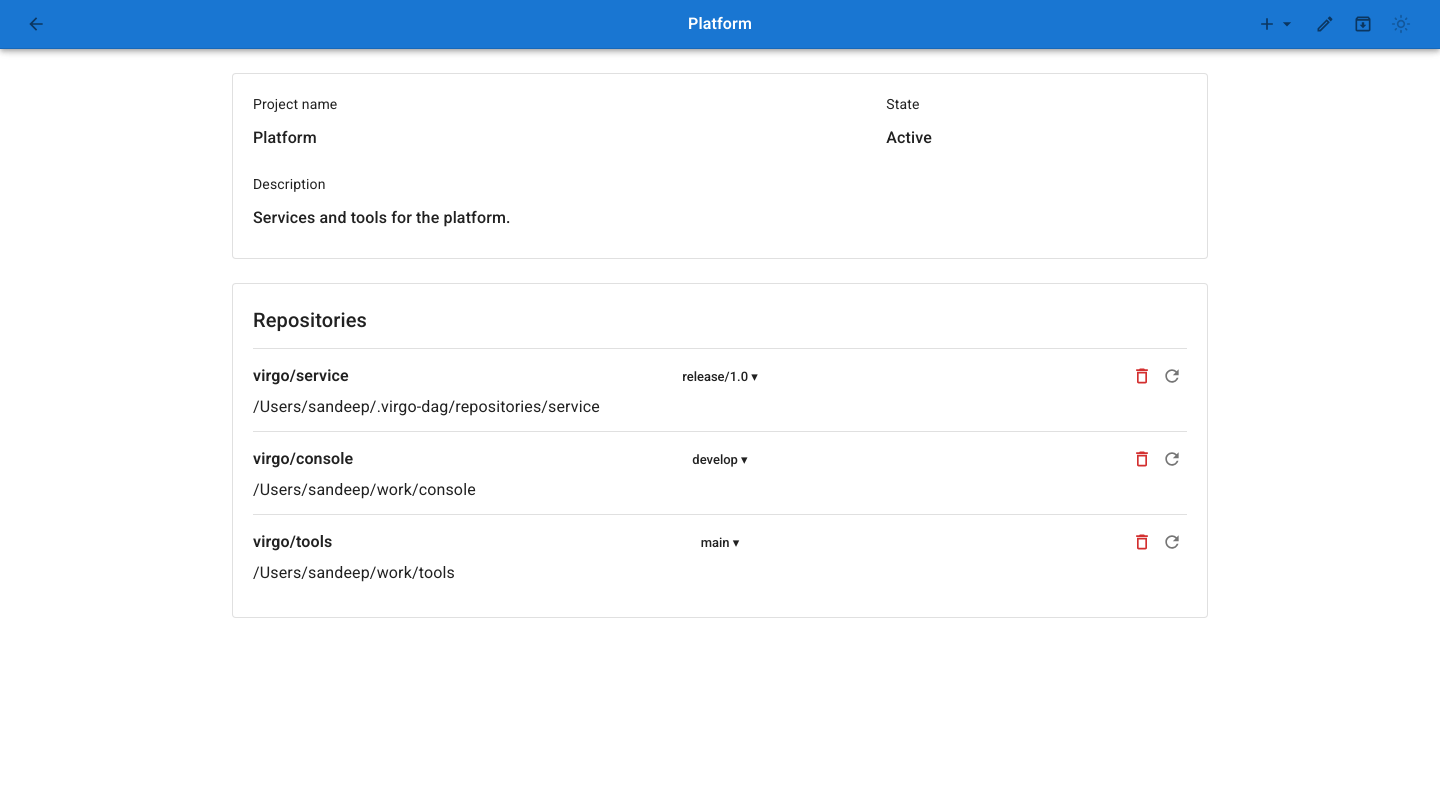
Test case: ProjectDetailsScreen discards edits when Cancel is selected
Press Tab
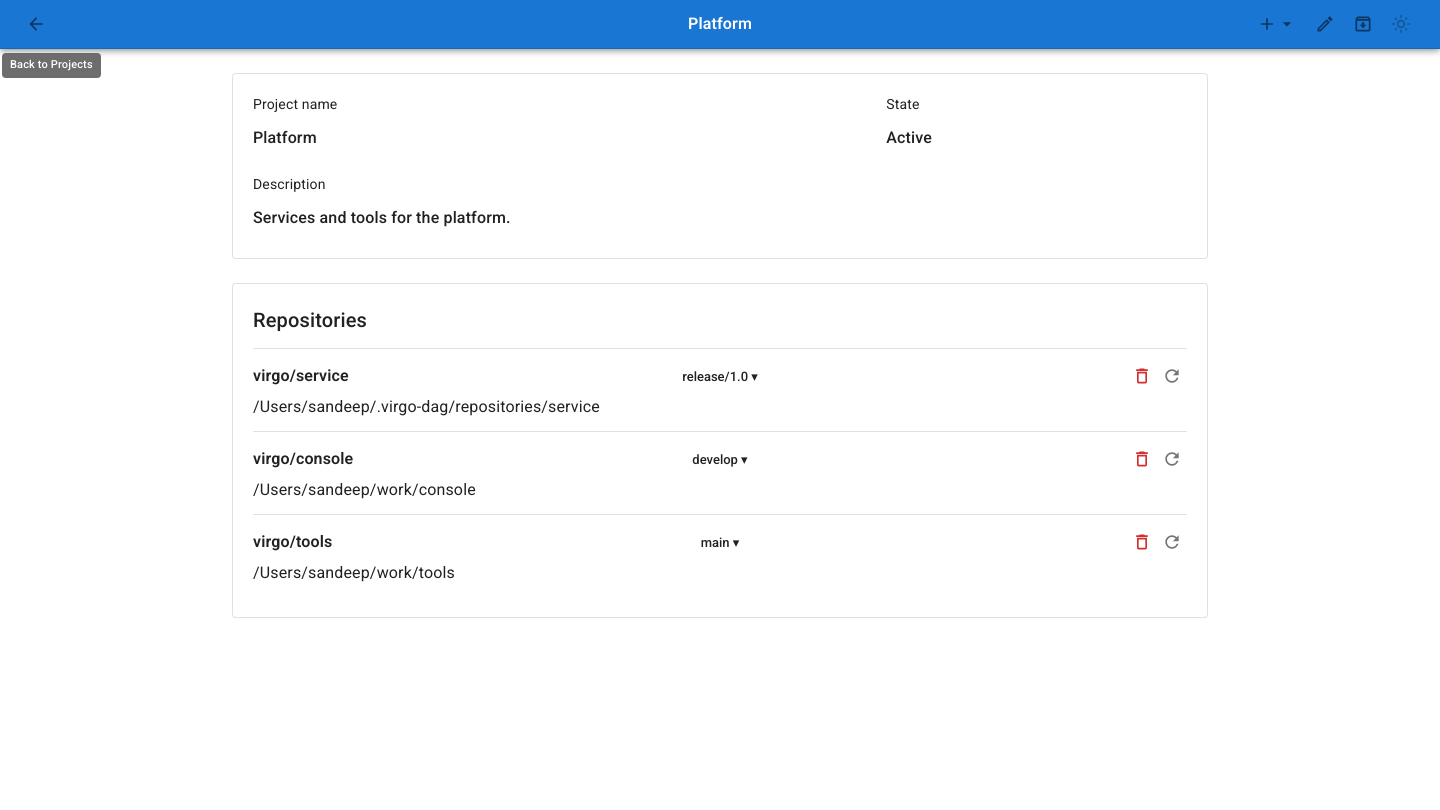
Press Tab
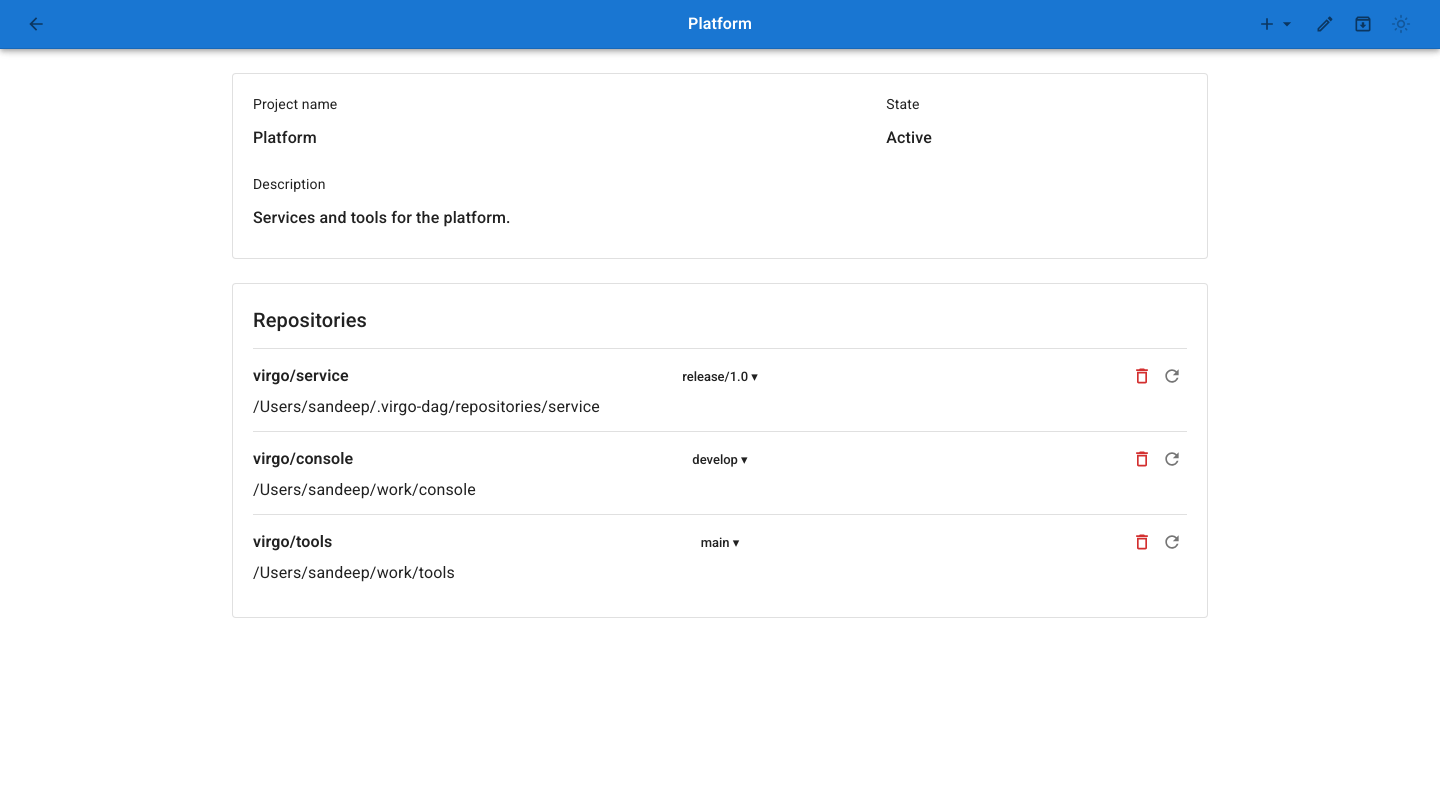
Press Tab
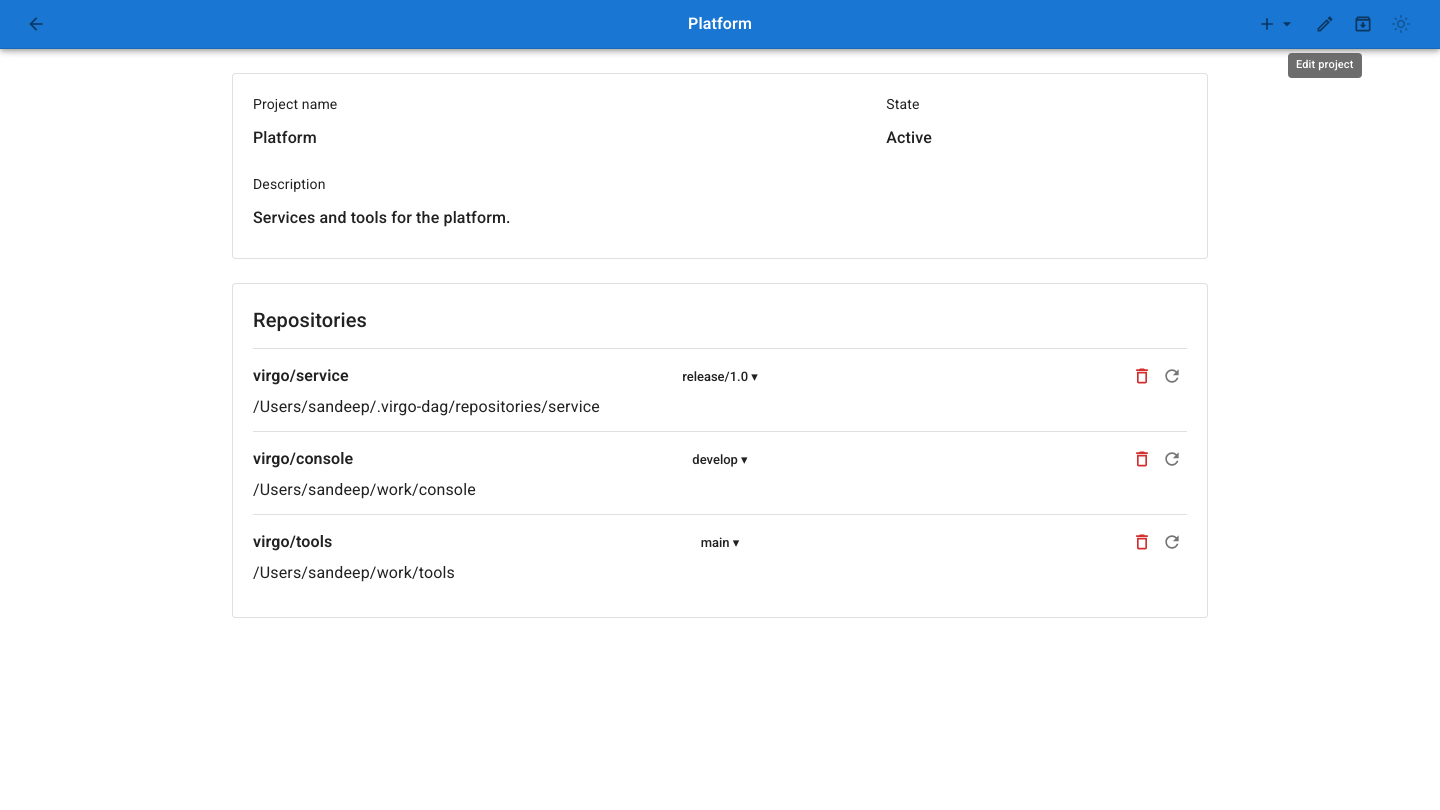
Press Enter
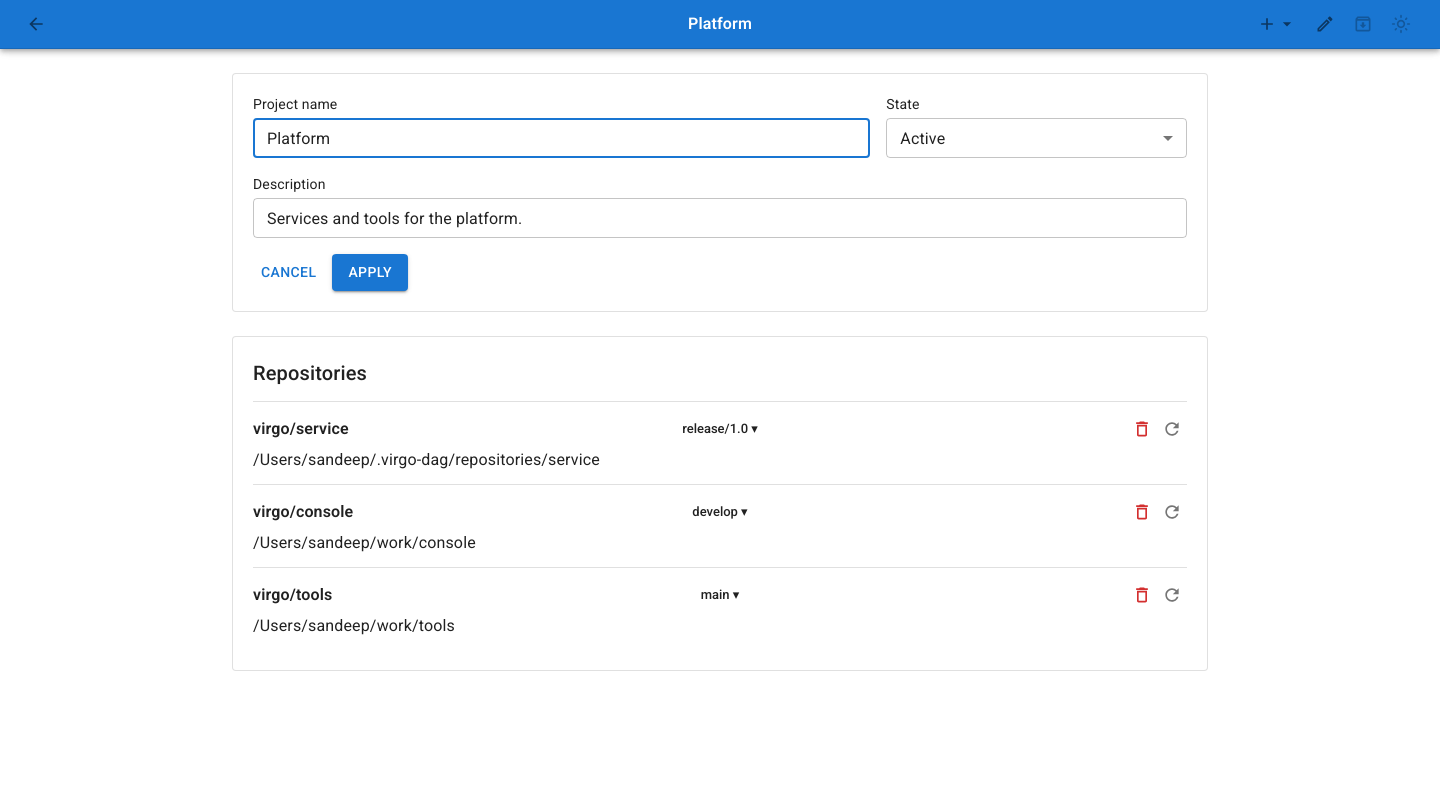
Replace the text in the field named "Project name" with "Changed project": (562, 138) [253,118,870,158]
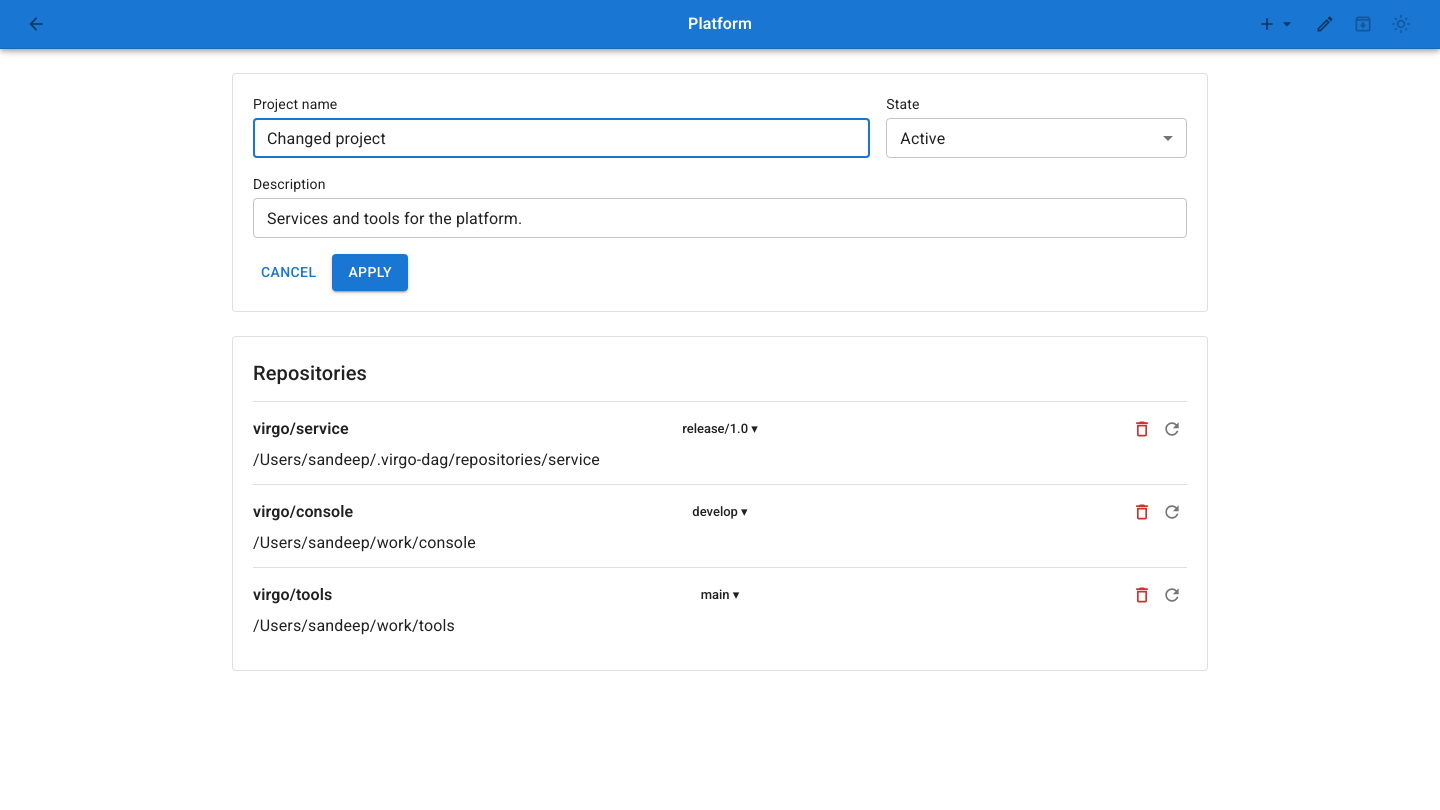
Click the button "Cancel": (289, 272) [253,254,324,290]
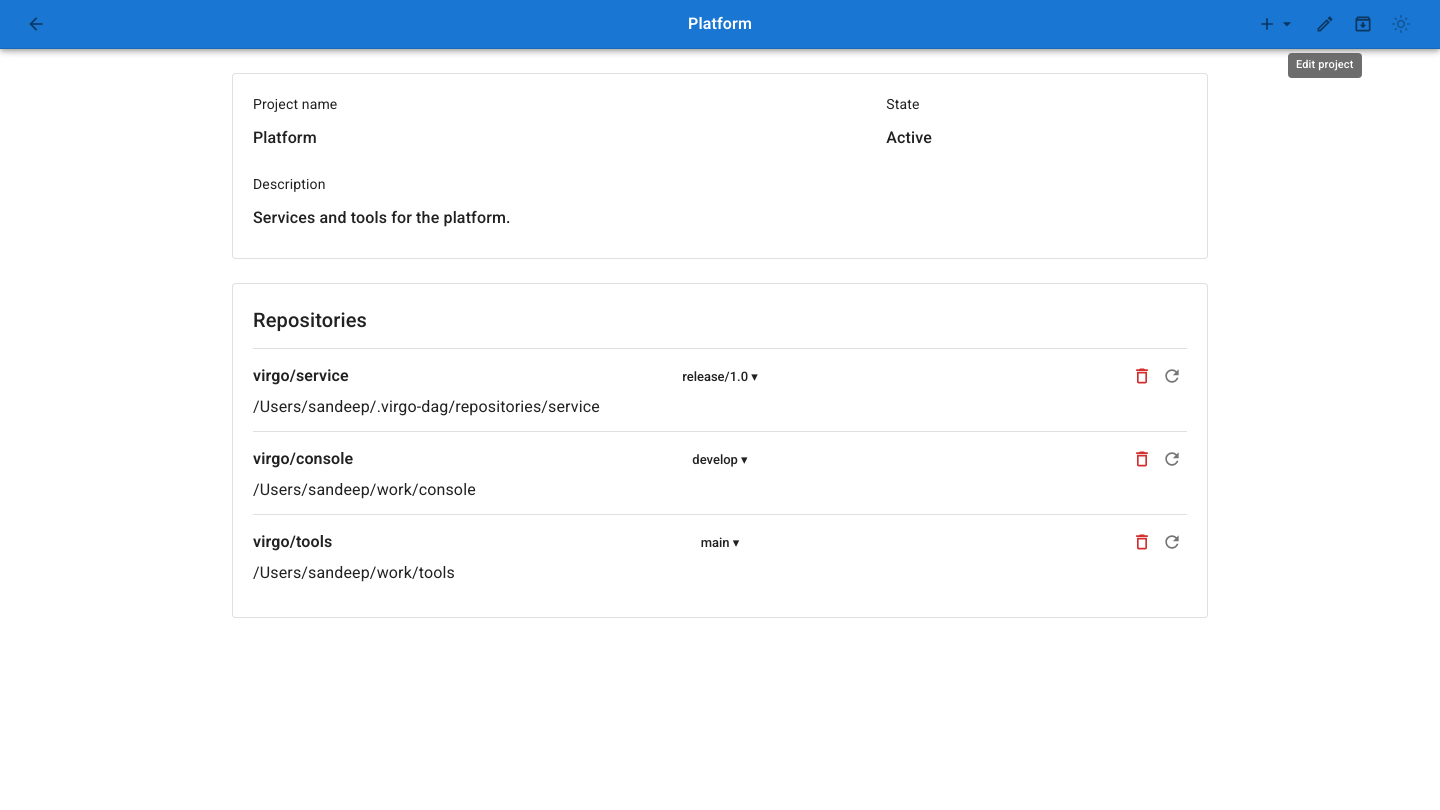
Expected: the heading "Platform" is shown, [688,10,752,38]
Result: the field is gone
